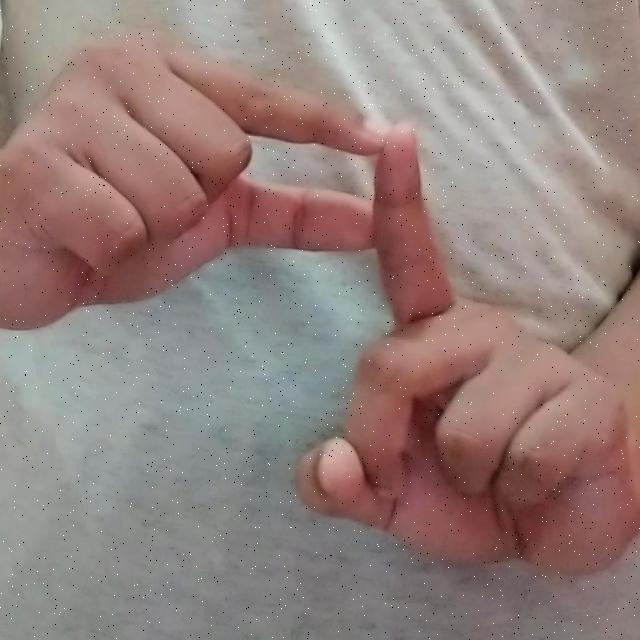P: (17, 21, 619, 593)
